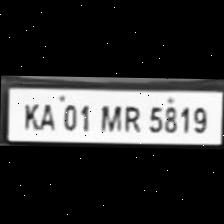0: (57, 99, 78, 131)
1: (76, 100, 94, 131), (176, 102, 192, 133)
5: (144, 101, 164, 132)
8: (161, 102, 179, 132)
9: (186, 104, 208, 134)
A: (34, 99, 56, 131)
K: (16, 97, 38, 128)
M: (96, 100, 119, 132)
R: (118, 101, 142, 132)
